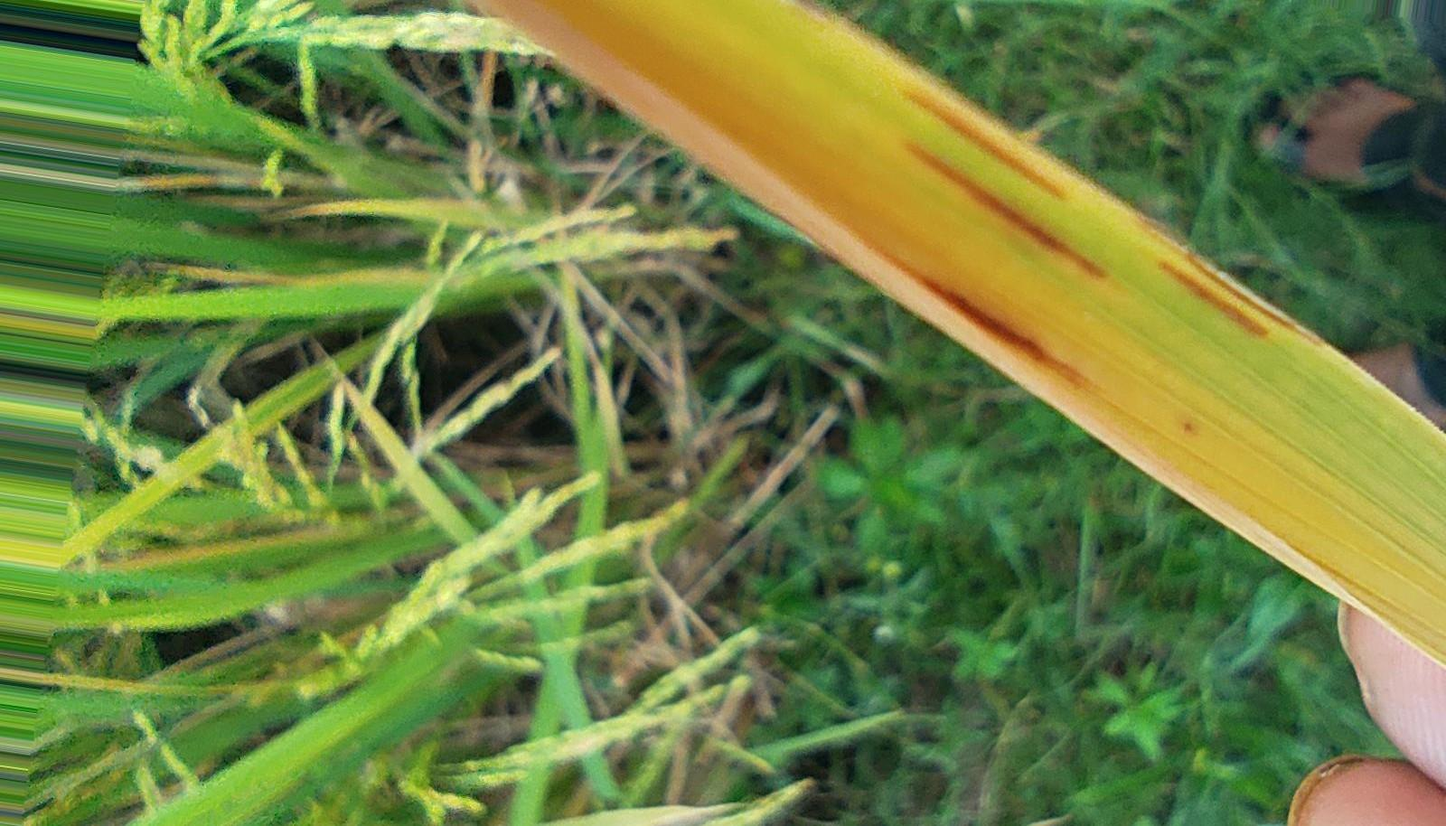NBS: (902, 136, 1109, 278), (902, 89, 1064, 199), (920, 275, 1045, 360), (1185, 251, 1294, 332), (1158, 261, 1269, 336)
